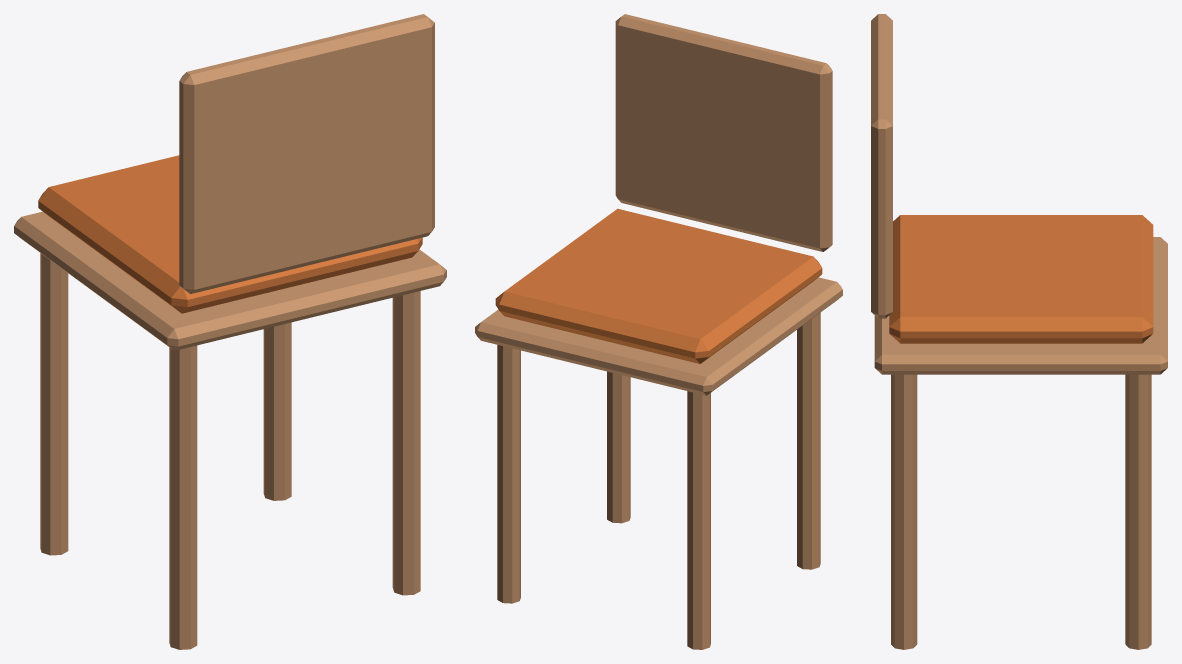
Rendered from chair.glb.
3 views of the same model, side by side, from view 1: azimuth 30°, elevation 25°; view 2: azimuth 150°, elevation 25°; view 3: azimuth 270°, elevation 25° (orthographic). The views are drawn at different scales.
Visible parts, largest first — view 1: Chair; view 2: Chair; view 3: Chair.
Part boxes in pixels (x1,y1,x2,y2): Chair: (14, 14, 446, 649); Chair: (475, 14, 842, 649); Chair: (871, 14, 1167, 649).
Bounding box in the file's own units: 0.4 × 0.795 × 0.405.
